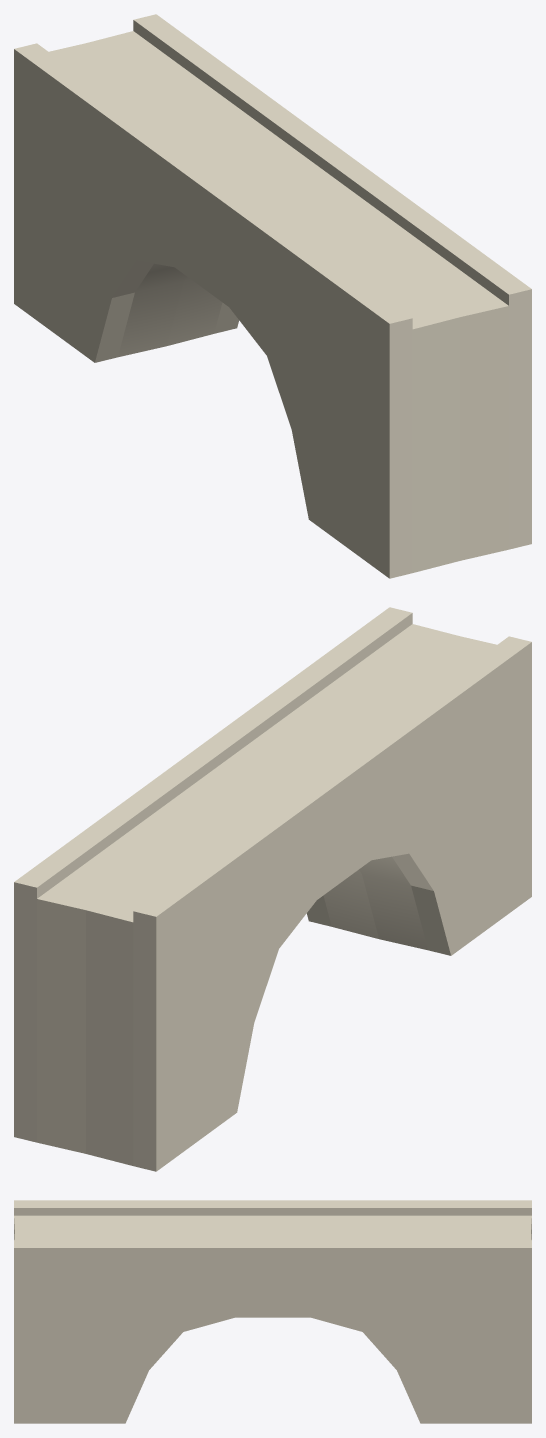
File: Bridge.fbx
3 renders of one model, top to bottom at view 1: azimuth 30°, elevation 25°; view 2: azimuth 150°, elevation 25°; view 3: azimuth 270°, elevation 25°, orthographic. The views are drawn at different scales.
Visible parts, largest first — view 1: Bridge2; view 2: Bridge2; view 3: Bridge2.
Part boxes in pixels (x1,y1,x2,y2): Bridge2: (14, 14, 531, 578); Bridge2: (14, 607, 531, 1171); Bridge2: (14, 1200, 531, 1423).
Bounding box in the file's own units: 64.3 × 110 × 294.
